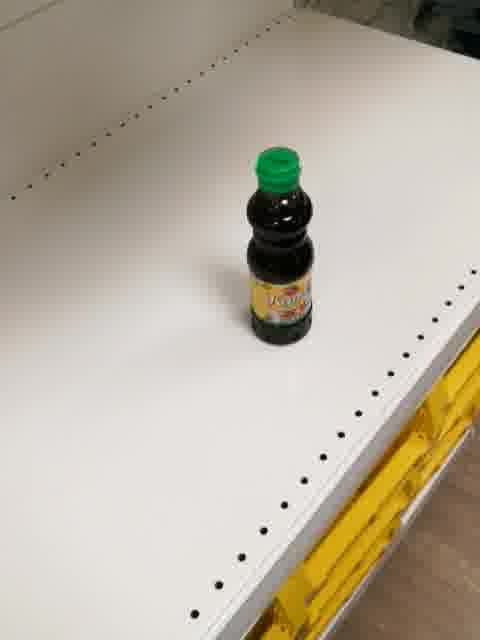cookingoil: (241, 144, 316, 348)
